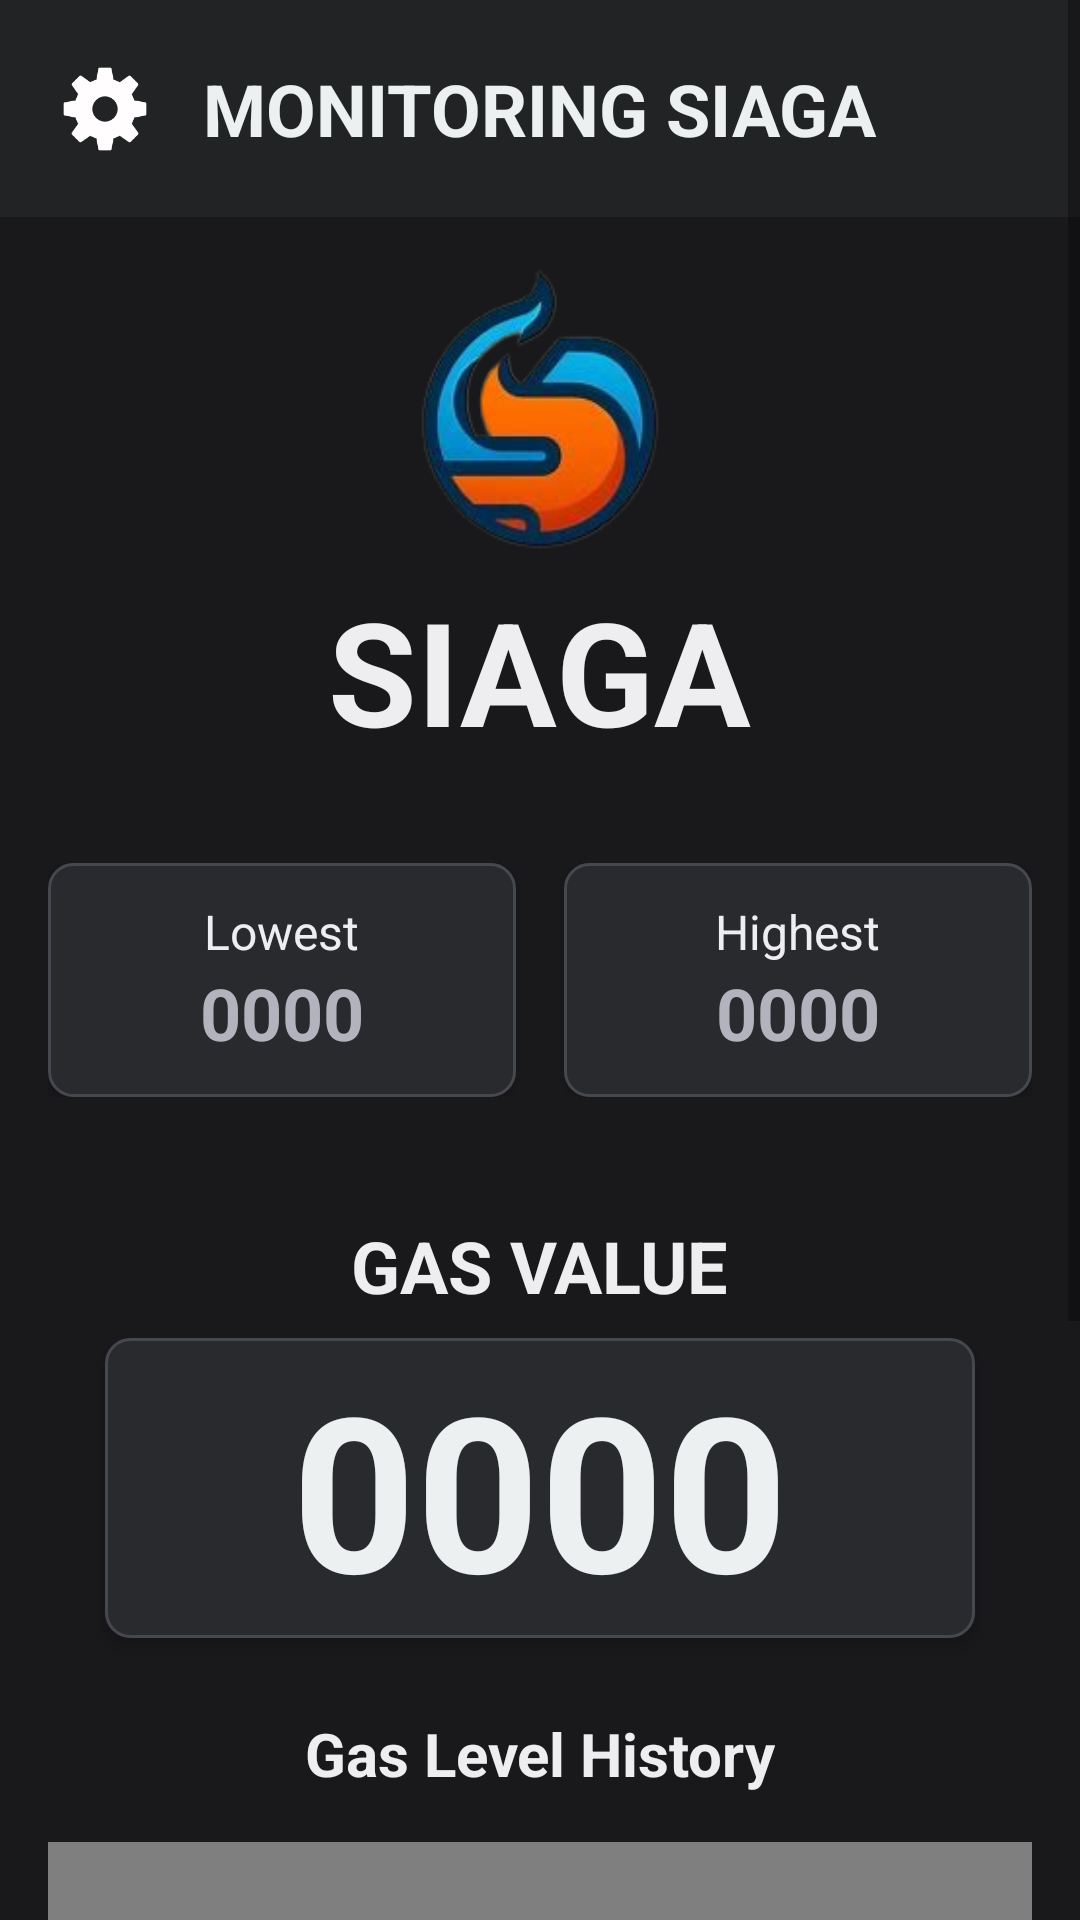

Locate icon controls on the screen. Image size 1080 x 1920, boxes as (x1, y1, x2, y2).
settingsbutton: (63, 67, 147, 151)
